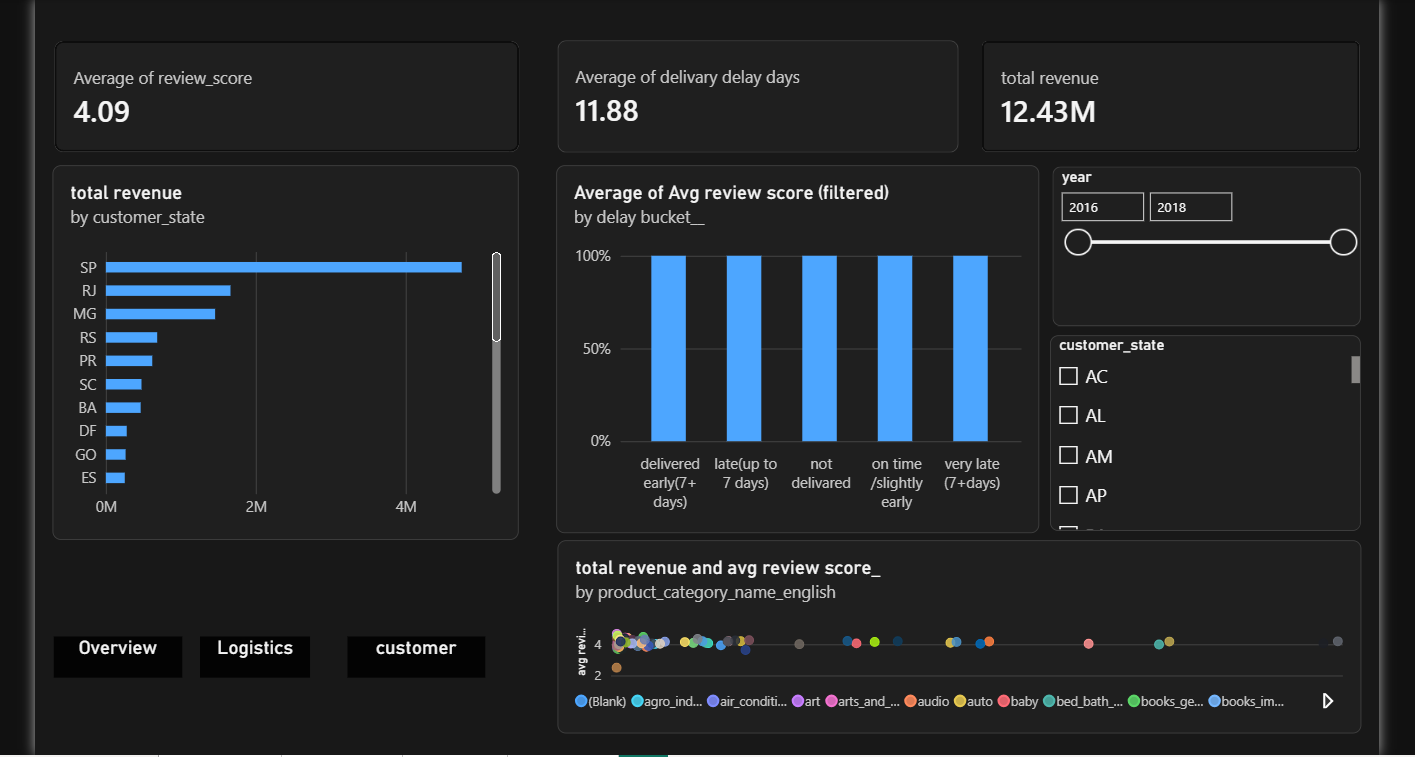

The page's visual inventory and layout, read from the dashboard file:
{"tool":"powerbi","page":{"name":"overview","canvas":[1280,720],"ordinal":1},"visuals":[{"type":"cardVisual","fields":{"Data":["Avg(order_reviews_.review_score)"]},"box":[17.3,39.5,444.4,107.4],"z":0},{"type":"cardVisual","fields":{"Data":["Avg(orders_.delivary delay days)"]},"box":[497.5,39.5,382.7,107.4],"z":1000},{"type":"barChart","fields":{"Category":["orders_.customer_state"],"Y":["Datetable.total revenue"]},"box":[17,158,444,357],"z":2000},{"type":"scatterChart","fields":{"Series":["products_.product_category_name_english"],"X":["Datetable.total revenue"],"Y":["order_reviews_.avg review score_"]},"box":[497.5,516,765.4,184],"z":3000},{"type":"cardVisual","fields":{"Data":["Datetable.total revenue"]},"box":[901.2,39.5,361.7,107.4],"z":4000},{"type":"hundredPercentStackedColumnChart","fields":{"Category":["orders_.delay bucket__"],"Y":["Avg(Datetable.Avg review score (filtered))"]},"box":[497,158,460,350],"z":6000},{"type":"slicer","fields":{"Values":["Datetable.year"]},"box":[969.1,159.3,293.8,151.9],"z":7000},{"type":"slicer","fields":{"Values":["orders_.customer_state"]},"box":[967,320,296,186],"z":8001},{"type":"actionButton","title":"Overview","box":[17.3,607.4,122.2,39.5],"z":8002},{"type":"actionButton","title":"Logistics","box":[156.8,607.4,104.9,39.5],"z":8003},{"type":"actionButton","title":"customer","box":[297.5,607.4,130.9,39.5],"z":8004}]}

Visuals, with their boxes on the page's 1280x720 design canvas (x1, y1, x2, y2). These are canvas units, not pixel positions in the 1415x757 screenshot, which may show the page scaled, cropped or inside an application window:
cardVisual - Avg(order_reviews_.review_score): (left=17, top=40, right=462, bottom=147)
cardVisual - Avg(orders_.delivary delay days): (left=498, top=40, right=880, bottom=147)
barChart - orders_.customer_state x Datetable.total revenue: (left=17, top=158, right=461, bottom=515)
scatterChart - products_.product_category_name_english x Datetable.total revenue: (left=498, top=516, right=1263, bottom=700)
cardVisual - Datetable.total revenue: (left=901, top=40, right=1263, bottom=147)
hundredPercentStackedColumnChart - orders_.delay bucket__ x Avg(Datetable.Avg review score (filtered)): (left=497, top=158, right=957, bottom=508)
slicer - Datetable.year: (left=969, top=159, right=1263, bottom=311)
slicer - orders_.customer_state: (left=967, top=320, right=1263, bottom=506)
"Overview" actionButton: (left=17, top=607, right=140, bottom=647)
"Logistics" actionButton: (left=157, top=607, right=262, bottom=647)
"customer" actionButton: (left=298, top=607, right=428, bottom=647)
